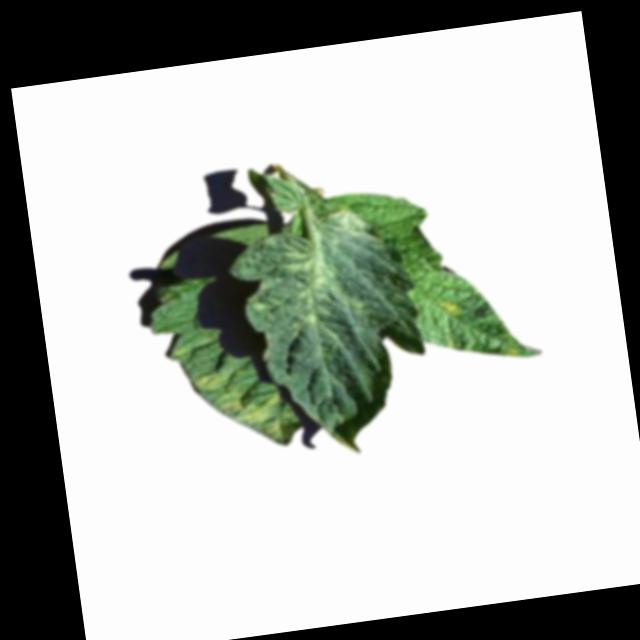Leaf_Mold: (211, 384, 289, 453), (328, 206, 380, 247), (186, 367, 230, 396), (435, 294, 467, 320), (498, 342, 523, 360)
